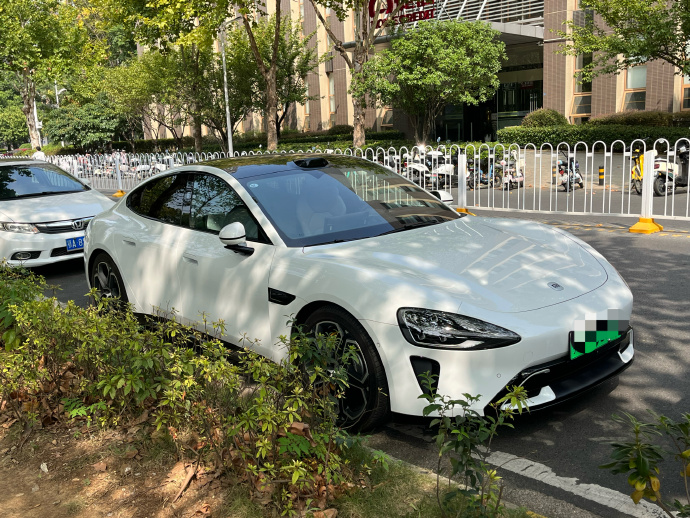su7: (81, 158, 644, 429)
